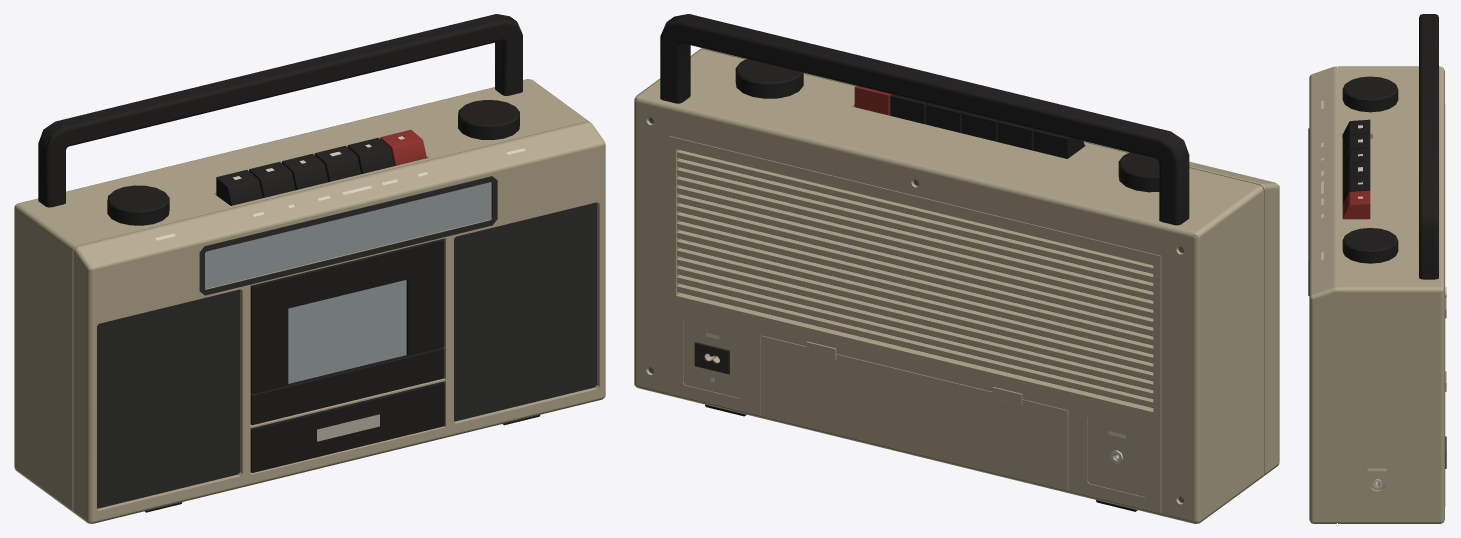
The model's file is boombox-compact-34db19804eb4.glb.
The picture shows the model from 3 angles, left to right: view 1: azimuth 30°, elevation 25°; view 2: azimuth 150°, elevation 25°; view 3: azimuth 270°, elevation 25°; orthographic projection. The views are drawn at different scales.
Visible parts, largest first — view 1: enamel-beige, enamel-black, grille-mesh, glass-clear, plastic-dark, enamel-red, decal-print; view 2: enamel-beige, enamel-black, plastic-dark, enamel-red; view 3: enamel-beige, enamel-black, enamel-red, plastic-dark, decal-ink.
Part boxes in pixels (box(x1,y1,x2,y2)): enamel-beige: box(14, 79, 605, 523); enamel-black: box(38, 14, 522, 472); grille-mesh: box(97, 202, 596, 508); glass-clear: box(205, 182, 491, 383); plastic-dark: box(199, 176, 497, 295); enamel-red: box(380, 130, 426, 166); decal-print: box(317, 414, 379, 441); enamel-beige: box(634, 48, 1279, 523); enamel-black: box(660, 14, 1189, 225); plastic-dark: box(680, 158, 1152, 407); enamel-red: box(854, 86, 892, 115); enamel-beige: box(1309, 66, 1446, 523); enamel-black: box(1342, 14, 1438, 279); enamel-red: box(1342, 190, 1370, 219); plastic-dark: box(1308, 128, 1446, 468); decal-ink: box(1321, 100, 1386, 471).
Size of the model in its own units: 0.4202 by 0.27 by 0.1098.
